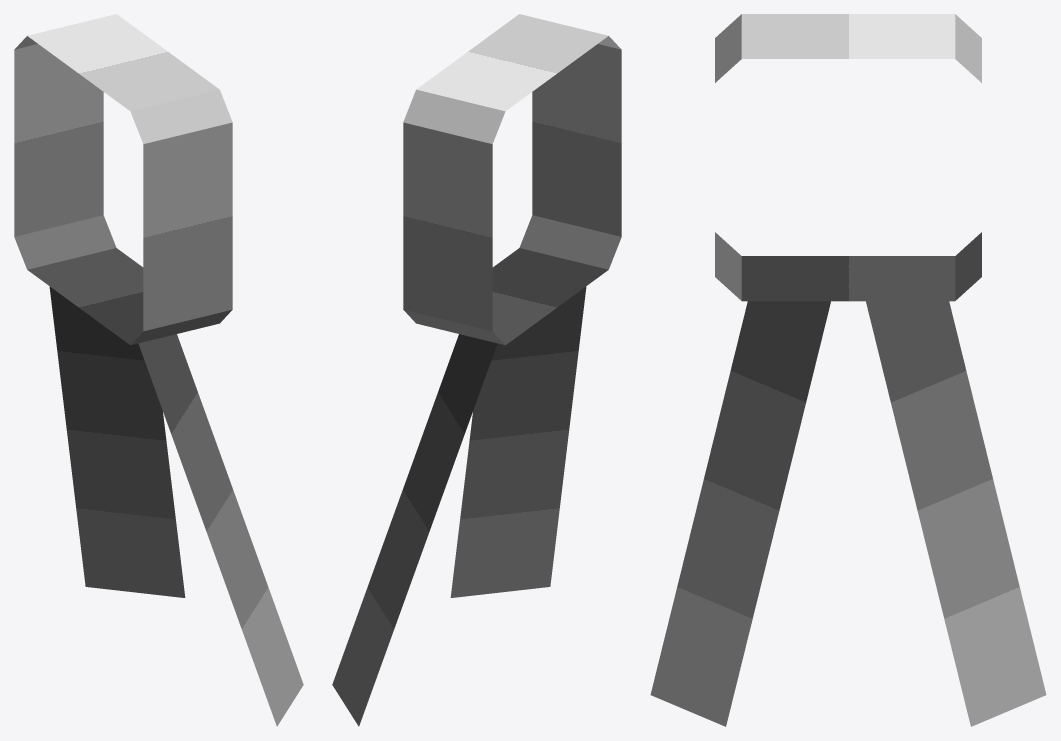
File: broom_ribbon.obj
3 renders of one model, left to right at view 1: azimuth 30°, elevation 25°; view 2: azimuth 150°, elevation 25°; view 3: azimuth 270°, elevation 25°, orthographic. The views are drawn at different scales.
Parts seen in each view (by area): view 1: BROOM_RIBBON_TINTABLE_Cube.004; view 2: BROOM_RIBBON_TINTABLE_Cube.004; view 3: BROOM_RIBBON_TINTABLE_Cube.004.
Part boxes in pixels (left/top/right/bottom): BROOM_RIBBON_TINTABLE_Cube.004: left=14, top=14, right=303, bottom=726; BROOM_RIBBON_TINTABLE_Cube.004: left=332, top=14, right=621, bottom=726; BROOM_RIBBON_TINTABLE_Cube.004: left=650, top=14, right=1046, bottom=726.
Size of the model in its own units: 0.1158 by 0.4062 by 0.2317.
